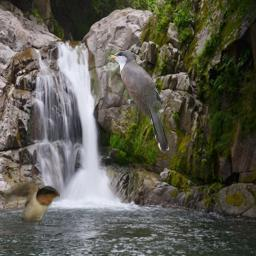Cuckoo: (105, 49, 171, 154)
Swallow: (2, 179, 60, 226)
